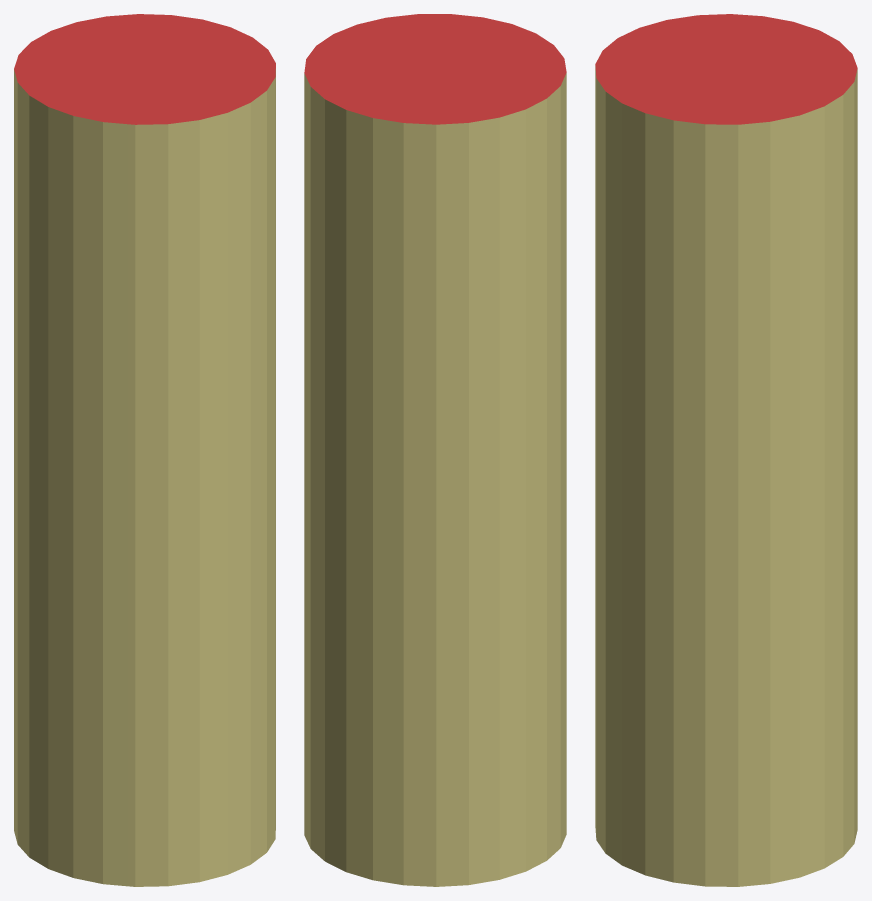
3 renders of one model, left to right at view 1: azimuth 30°, elevation 25°; view 2: azimuth 150°, elevation 25°; view 3: azimuth 270°, elevation 25°, orthographic.
Bounding box in the file's own units: 3.12 × 3.12 × 10.01.
